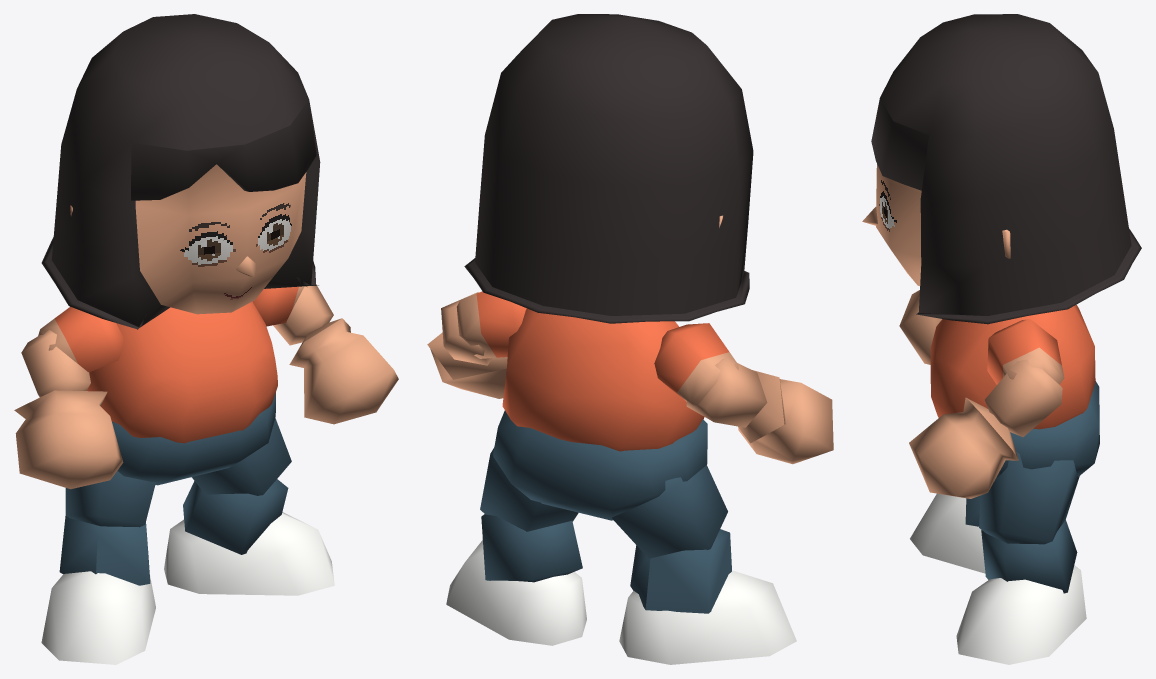
3 views of the same model, side by side, from view 1: azimuth 30°, elevation 25°; view 2: azimuth 150°, elevation 25°; view 3: azimuth 270°, elevation 25° (orthographic). The views are drawn at different scales.
Visible parts, largest first — view 1: Character; view 2: Character; view 3: Character.
Boxes of the visible parts, x1,y1,x2,y2 form: Character: [14, 14, 398, 664]; Character: [427, 14, 833, 664]; Character: [862, 14, 1141, 664].
Bounding box in the file's own units: 1.98 × 2.84 × 1.28.
Materials: 9 (2 with a texture image).
